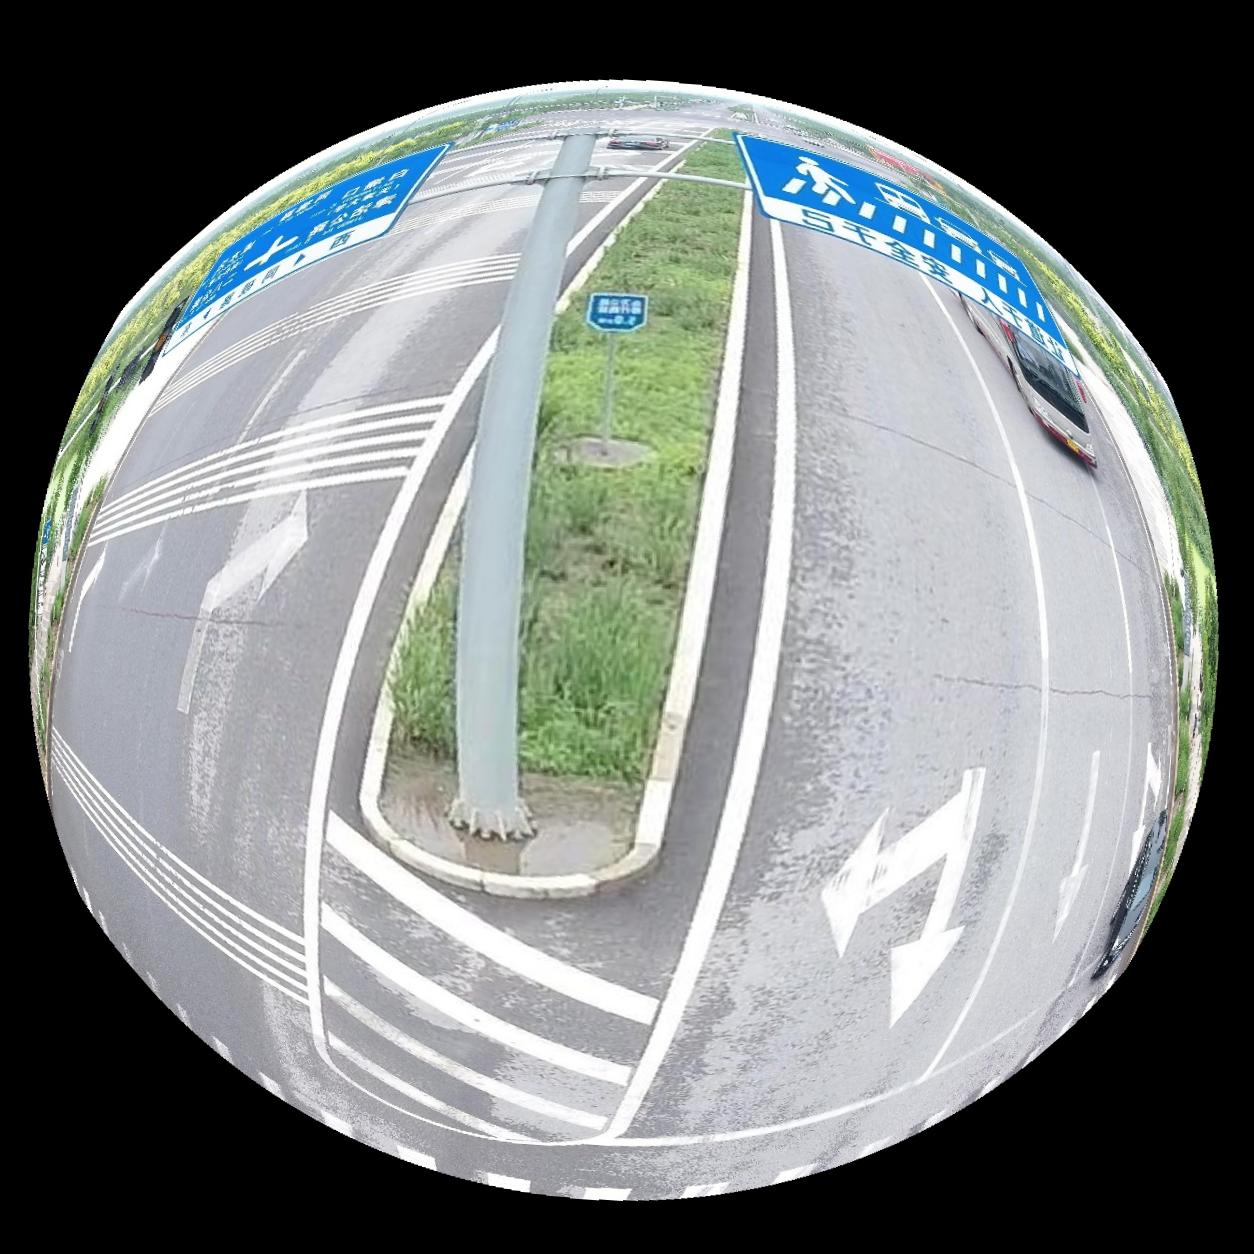cars: (964, 297, 1097, 465), (1094, 811, 1168, 981)
